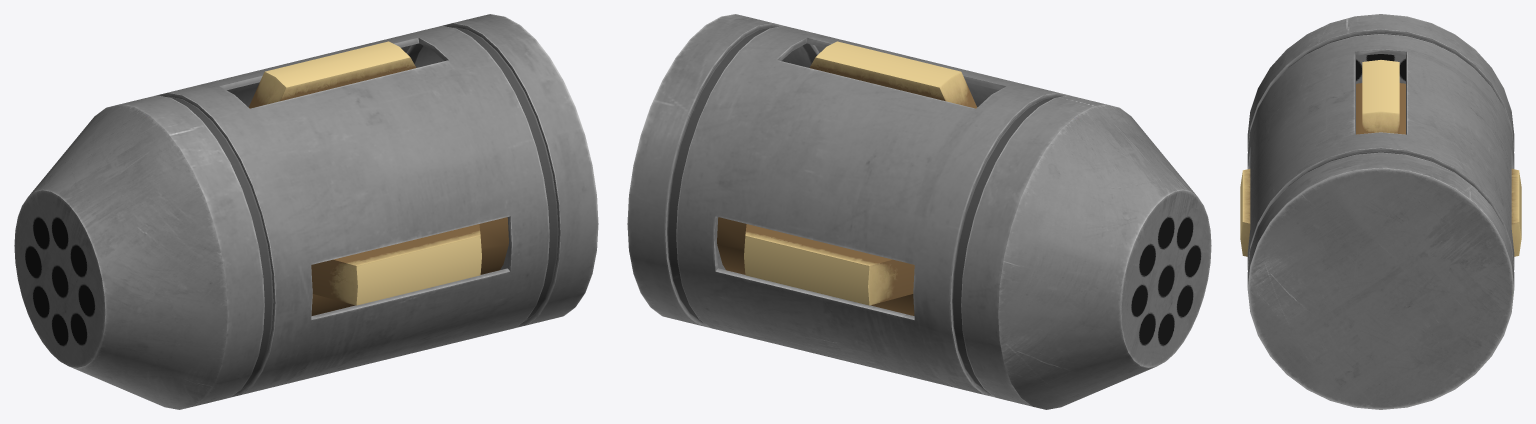
The model's file is pommel_7_c_b.glb.
The picture shows the model from 3 angles, left to right: view 1: azimuth 30°, elevation 25°; view 2: azimuth 150°, elevation 25°; view 3: azimuth 270°, elevation 25°; orthographic projection. The views are drawn at different scales.
Visible parts, largest first — view 1: pommel_7_c_b_lod0; view 2: pommel_7_c_b_lod0; view 3: pommel_7_c_b_lod0.
Boxes of the visible parts, left/top/right/bottom form: pommel_7_c_b_lod0: left=14, top=14, right=598, bottom=409; pommel_7_c_b_lod0: left=627, top=14, right=1211, bottom=409; pommel_7_c_b_lod0: left=1240, top=14, right=1521, bottom=409.
Size of what is drawn, in the model's own units: 0.0492 by 0.0305 by 0.0305.
Materials: 1 (1 with a texture image).
